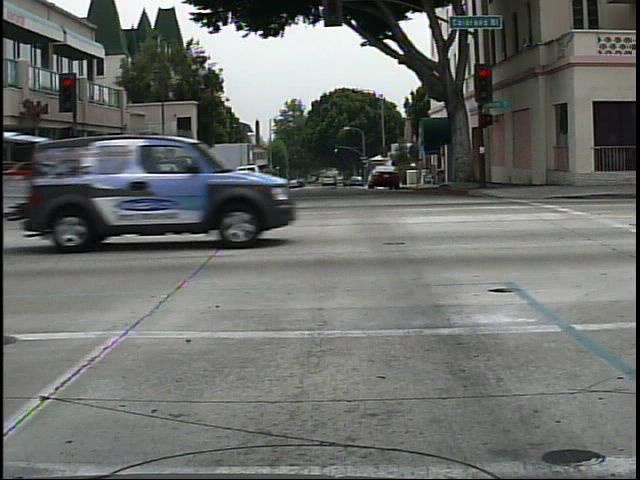person: (456, 140, 485, 196), (94, 153, 121, 202)
